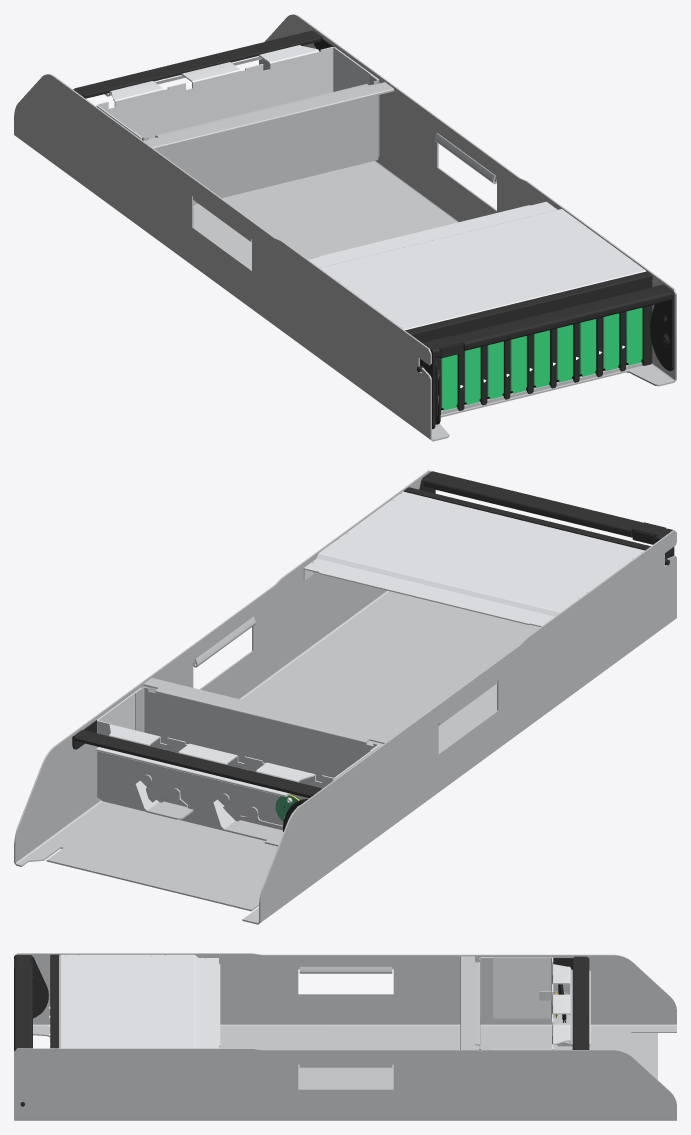
The model's file is exterior.glb.
3 views of the same model, one above another, from view 1: azimuth 30°, elevation 25°; view 2: azimuth 150°, elevation 25°; view 3: azimuth 270°, elevation 25° (orthographic). The views are drawn at different scales.
Parts seen in each view (by area): view 1: Frame_low.004_block.002, Frame_low.004_block.033, Cosmo-Handle-1, Plane.037, Plane.036, Plane.039, Plane.032, Plane.033, Plane.034, Plane.035, Plane.038, Plane.031; view 2: Frame_low.004_block.002, Cosmo-Handle-1, Frame_low.004_block.033; view 3: Frame_low.004_block.002, Cosmo-Handle-1, Frame_low.004_block.033.
Part boxes in pixels (x1,y1,x2,y2): Frame_low.004_block.002: (14,14,676,441); Frame_low.004_block.033: (405,271,652,414); Cosmo-Handle-1: (417,284,674,429); Plane.037: (579,319,596,376); Plane.036: (556,324,573,382); Plane.039: (626,307,642,365); Plane.032: (464,347,480,404); Plane.033: (487,341,503,399); Plane.034: (510,336,526,393); Plane.035: (533,330,549,388); Plane.038: (603,313,619,371); Plane.031: (441,354,457,410); Frame_low.004_block.002: (14,470,676,924); Cosmo-Handle-1: (419,471,674,565); Frame_low.004_block.033: (404,487,650,550); Frame_low.004_block.002: (14,953,676,1120); Cosmo-Handle-1: (14,955,48,1106); Frame_low.004_block.033: (50,954,58,1048).
Size of the model in its own units: 0.2659 by 0.0928 by 0.765.
